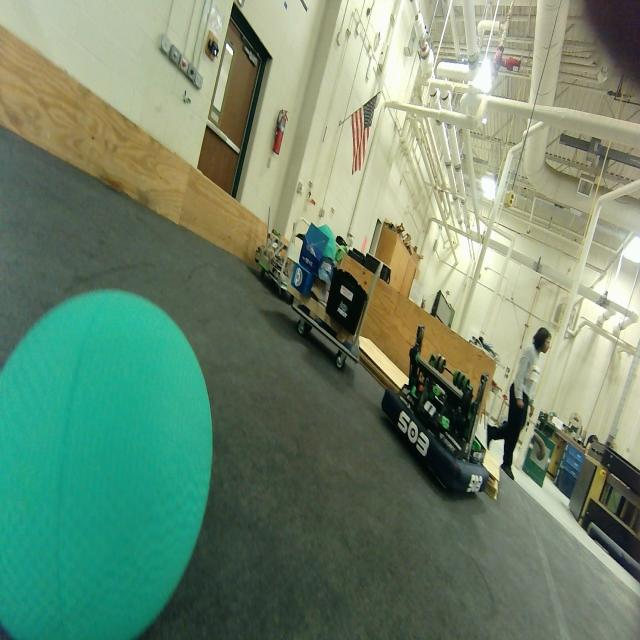algae: (0, 290, 212, 640)
